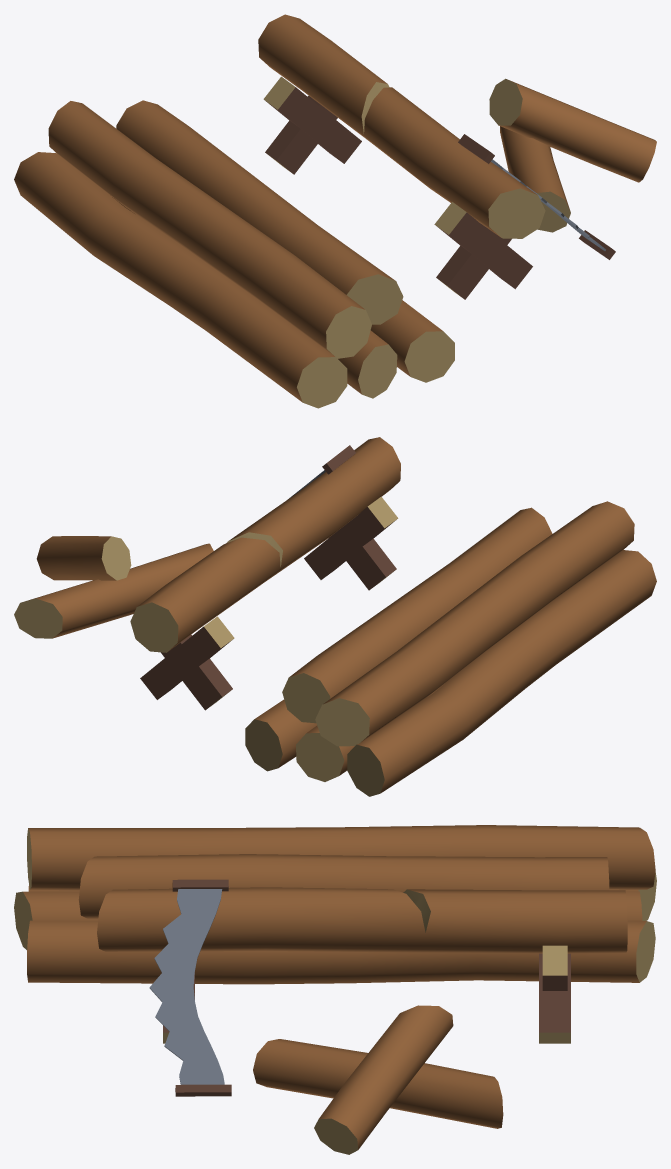
Rendered from quaternius-pirate-sawmill.glb.
3 renders of one model, top to bottom at view 1: azimuth 30°, elevation 25°; view 2: azimuth 150°, elevation 25°; view 3: azimuth 270°, elevation 25°, orthographic. The views are drawn at different scales.
Visible parts, largest first — view 1: Environment_Sawmill; view 2: Environment_Sawmill; view 3: Environment_Sawmill.
Part boxes in pixels (<box>): Environment_Sawmill: <box>14,14,656,408</box>; Environment_Sawmill: <box>14,437,656,796</box>; Environment_Sawmill: <box>14,825,656,1154</box>.
Bounding box in the file's own units: 2.07 × 0.5934 × 2.06.
Materials: 1 (1 with a texture image).
